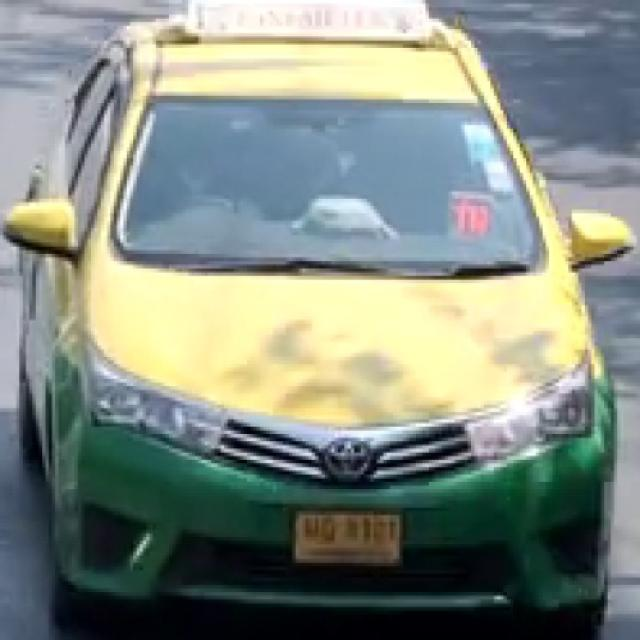plate: (291, 505, 405, 569)
